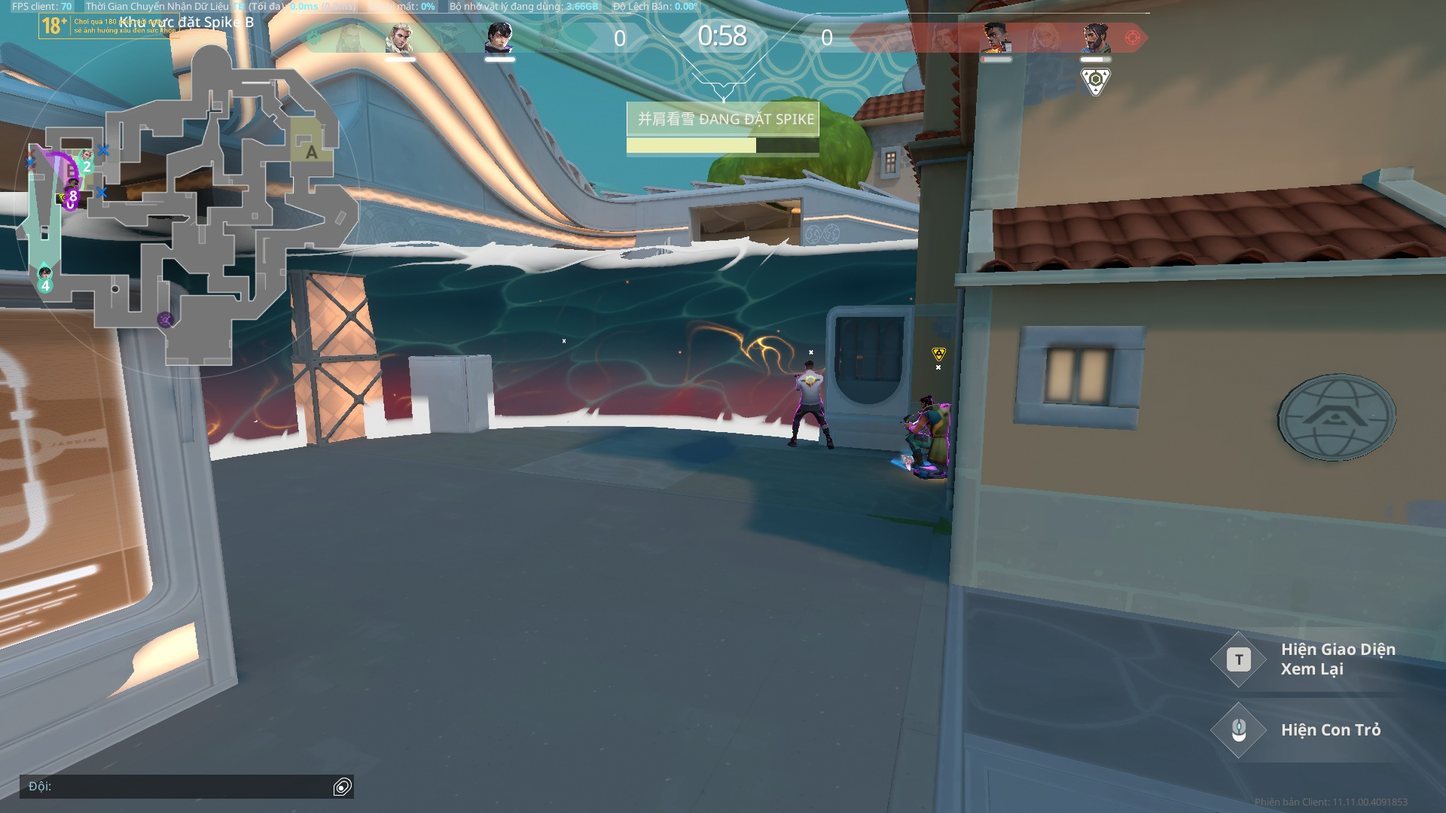body: (919, 407, 952, 437), (796, 371, 825, 403)
head: (802, 359, 818, 372), (919, 395, 933, 408)
